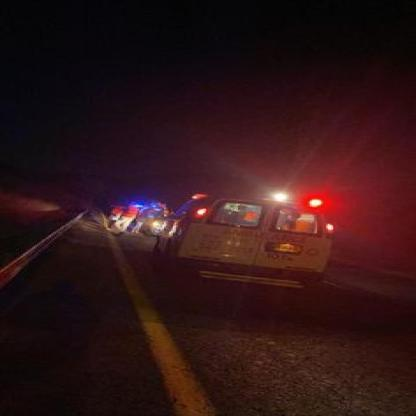priority: (177, 178, 359, 300)
